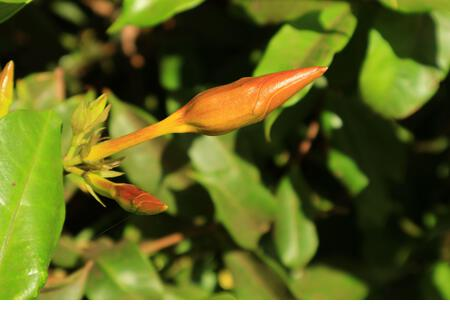Hibiscus: (150, 49, 345, 144), (88, 163, 185, 224), (1, 52, 23, 148)
